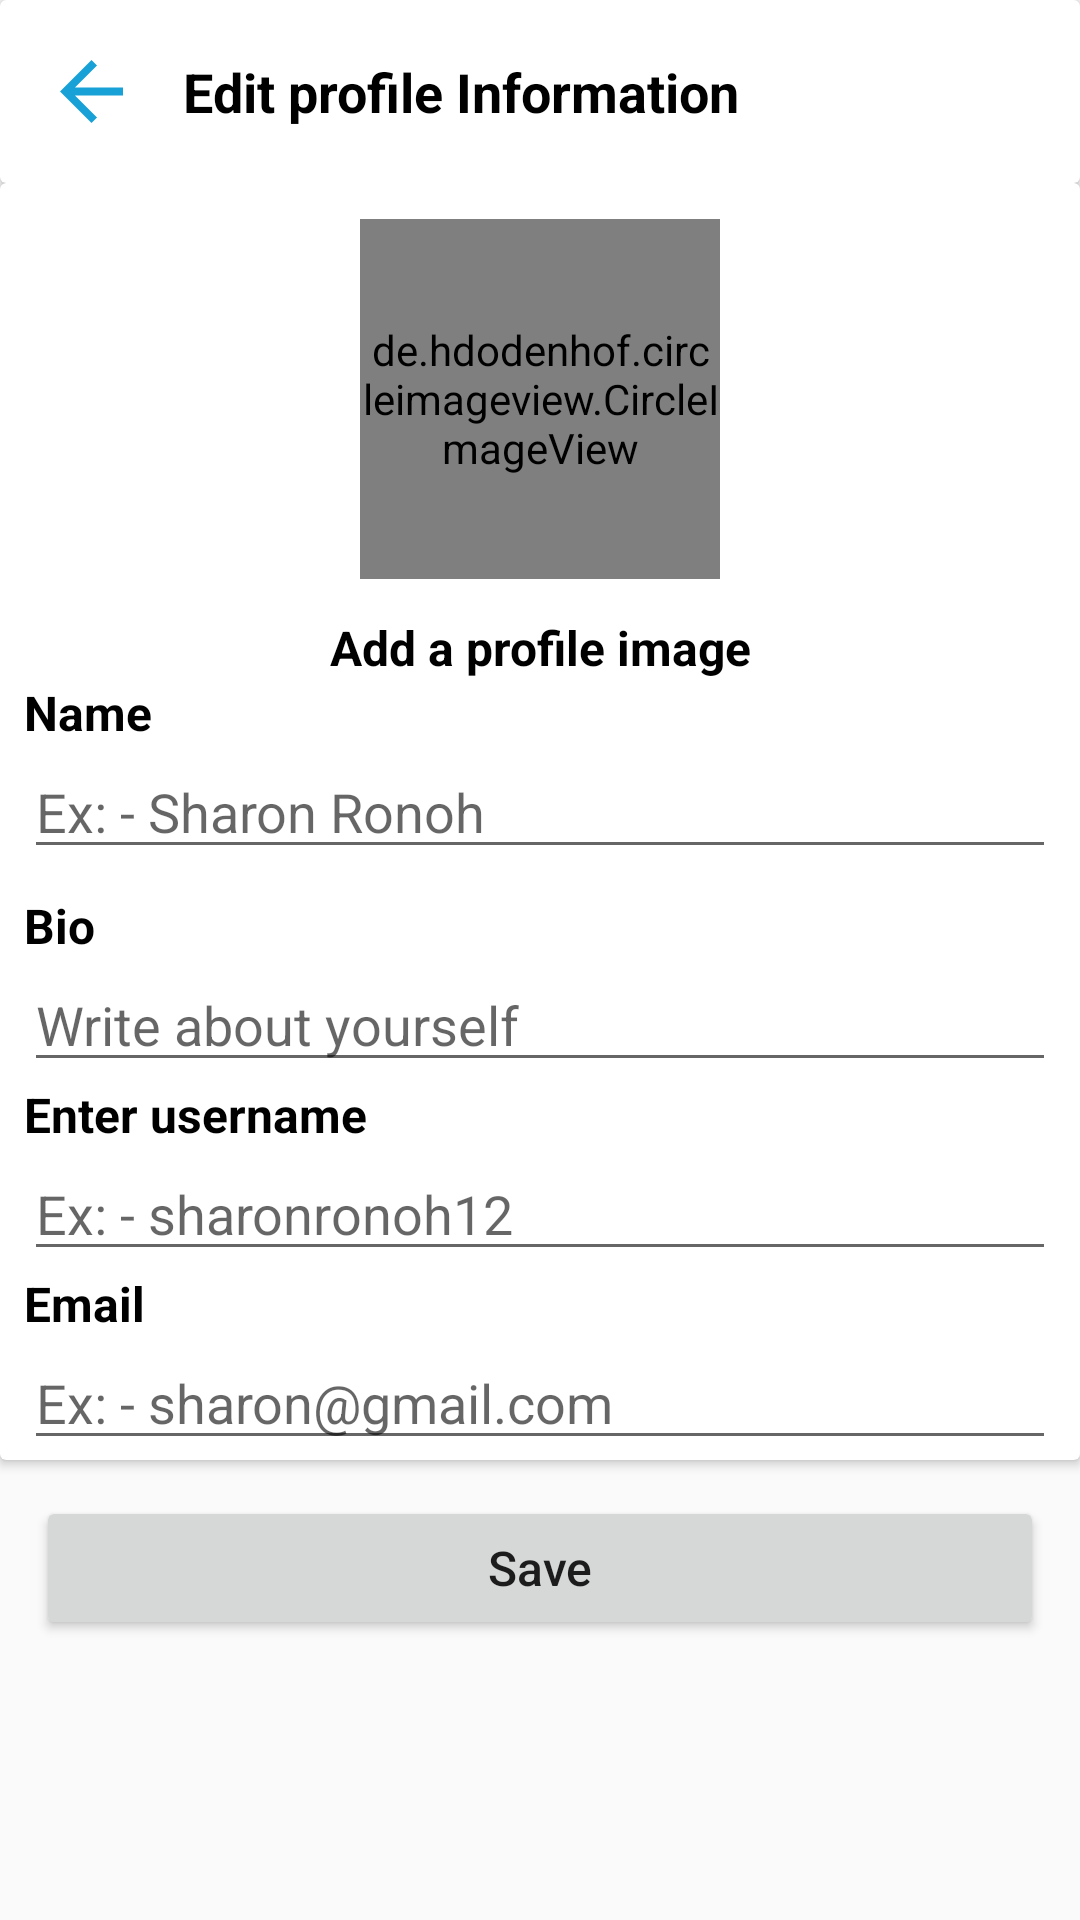

Locate icon controls on the screen. Image size 1080px×1920px, boxes as (x1, y1, x2, y2).
back arrow: (60, 60, 123, 123)
